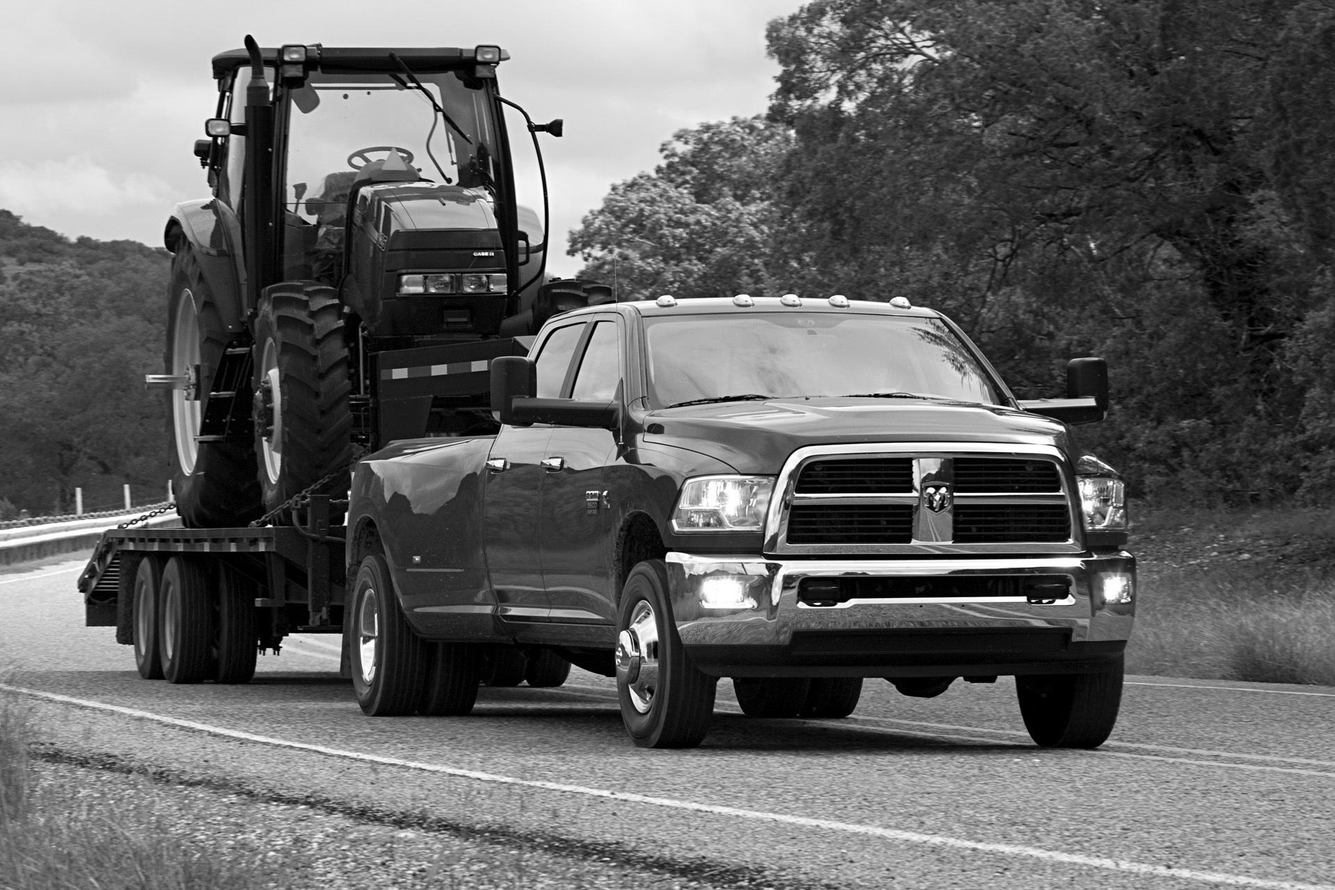car: (72, 288, 1142, 755)
